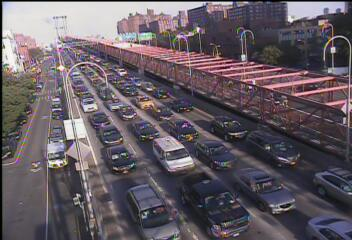neg: (110, 51, 136, 85), (250, 137, 276, 171), (198, 97, 221, 127), (175, 76, 193, 99), (286, 79, 304, 102), (165, 129, 182, 153), (112, 138, 127, 158)
